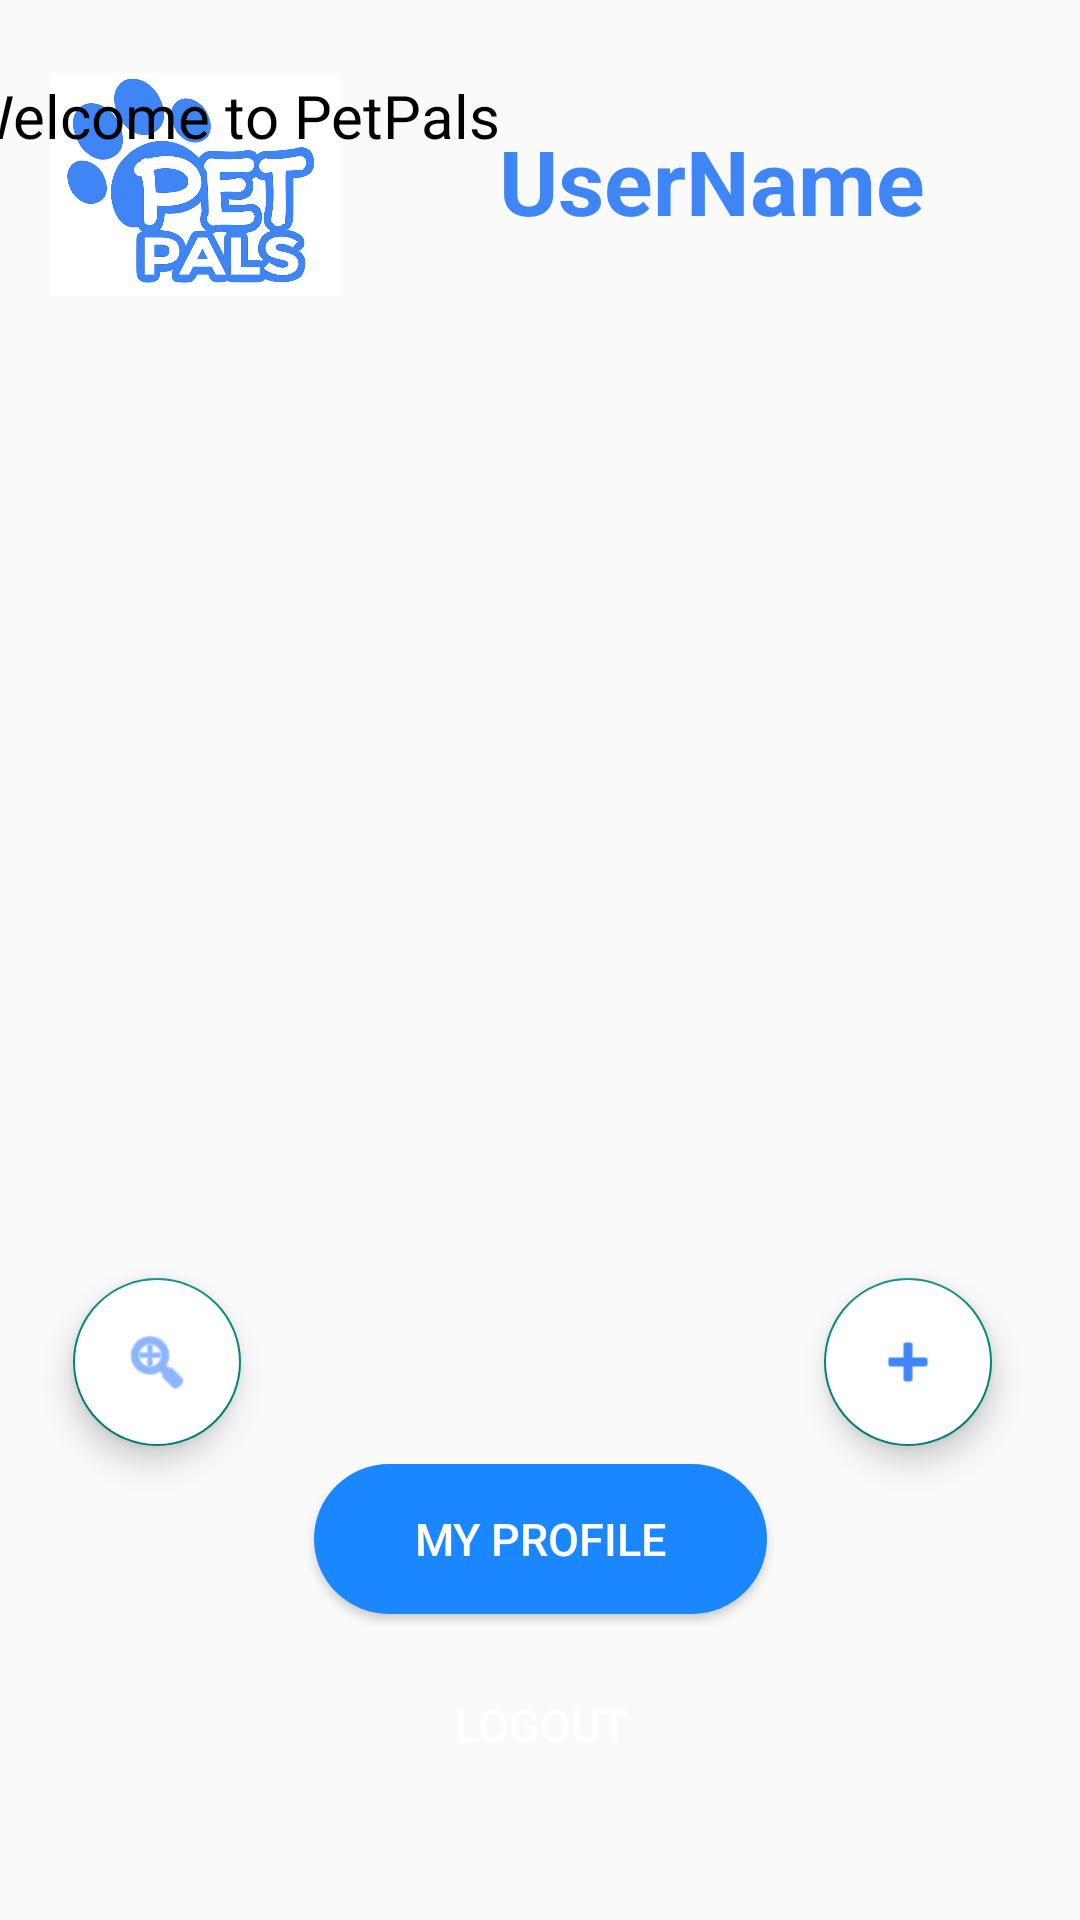

Icons on this 1080×1920 Android screen, each with its box as bbox(x1, y1, x2, y2):
New post: bbox(824, 1278, 992, 1446)
